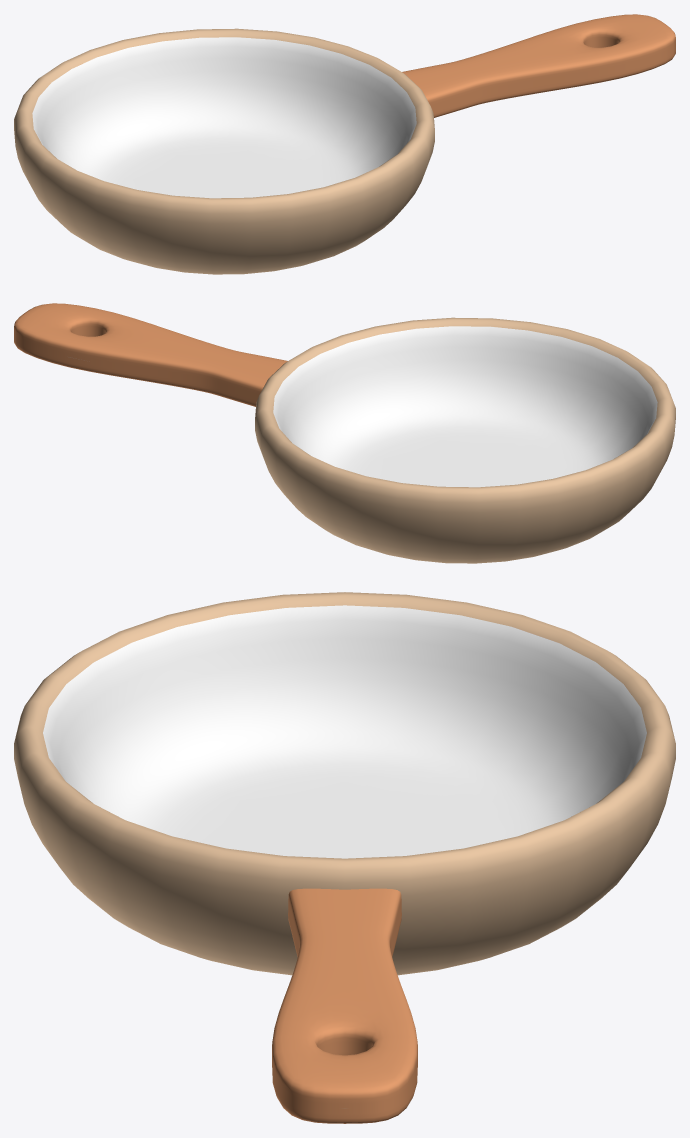
The model's file is Pan.fbx.
3 renders of one model, top to bottom at view 1: azimuth 30°, elevation 25°; view 2: azimuth 150°, elevation 25°; view 3: azimuth 270°, elevation 25°, orthographic. The views are drawn at different scales.
Parts seen in each view (by area): view 1: SM_Pan; view 2: SM_Pan; view 3: SM_Pan.
Part boxes in pixels (left/top/right/bottom): SM_Pan: left=14, top=14, right=675, bottom=274; SM_Pan: left=14, top=303, right=675, bottom=563; SM_Pan: left=14, top=592, right=675, bottom=1123.
Size of the model in its own units: 140 by 21.81 by 82.01.
